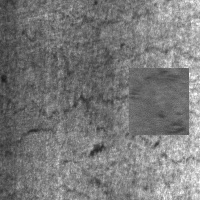crazing: (22, 29, 188, 135), (57, 138, 186, 197), (1, 89, 62, 151)
rolled-in_scale: (129, 68, 189, 135)
